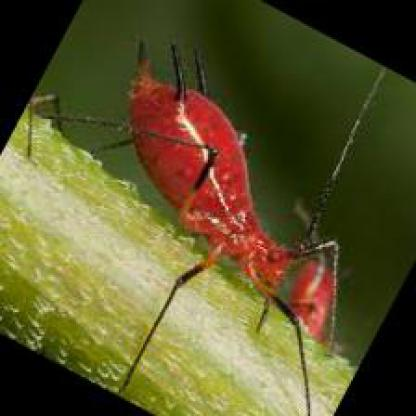uroleucon compositae: (130, 43, 378, 344)
